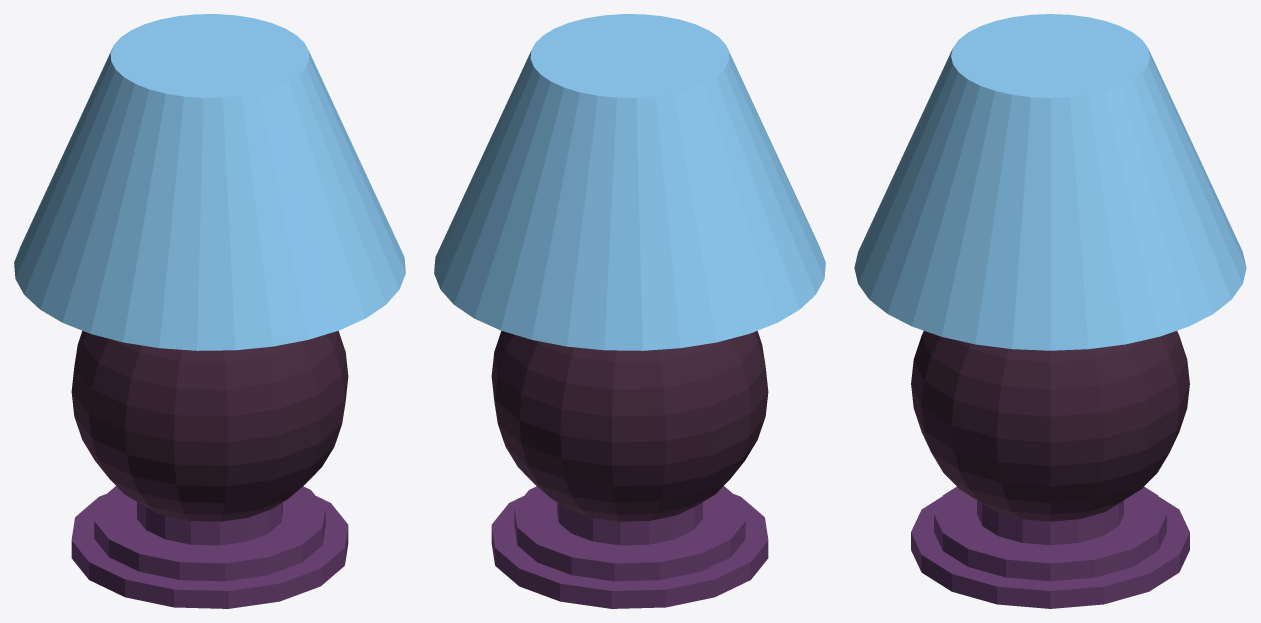
The model's file is Table lamp.fbx.
3 renders of one model, left to right at view 1: azimuth 30°, elevation 25°; view 2: azimuth 150°, elevation 25°; view 3: azimuth 270°, elevation 25°, orthographic.
Visible parts, largest first — view 1: Table Lamp; view 2: Table Lamp; view 3: Table Lamp.
Part boxes in pixels (bbox=[...]): Table Lamp: bbox=[14, 14, 405, 608]; Table Lamp: bbox=[434, 14, 825, 608]; Table Lamp: bbox=[854, 14, 1246, 608].
Size of the model in its own units: 281 by 391 by 281.
